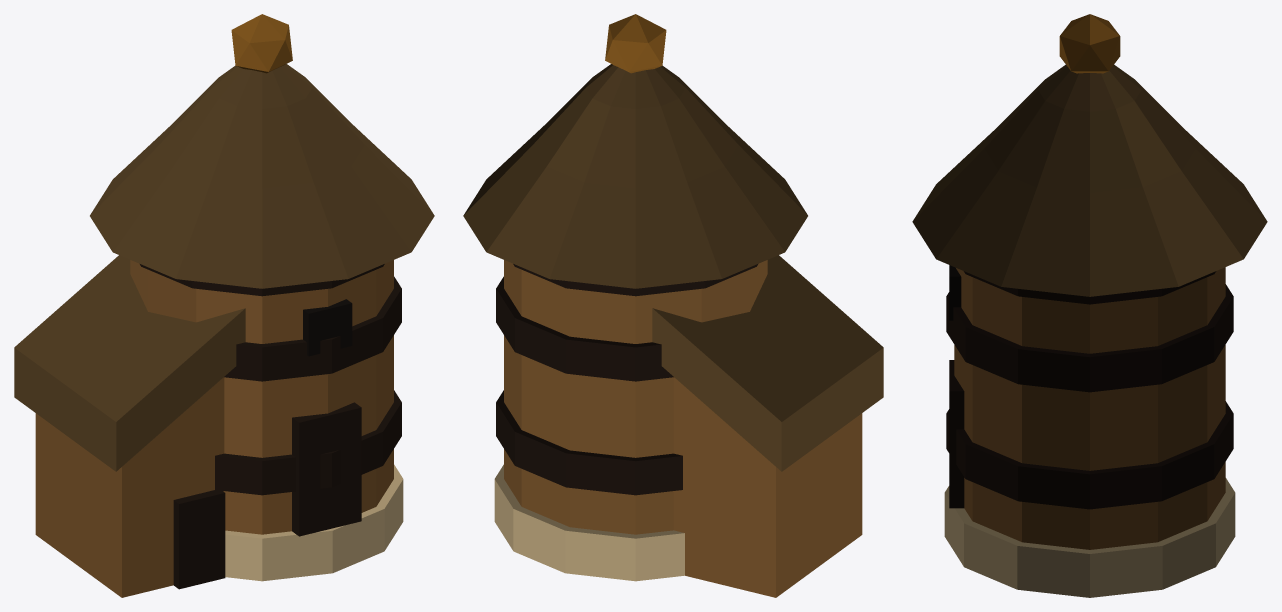
The model's file is granary.obj.
3 views of the same model, side by side, from view 1: azimuth 30°, elevation 25°; view 2: azimuth 150°, elevation 25°; view 3: azimuth 270°, elevation 25° (orthographic). The views are drawn at different scales.
Parts seen in each view (by area): view 1: core_thatch_store, core_plank, core_wood_dark, core_stone, core_gold, core_black; view 2: core_thatch_store, core_plank, core_wood_dark, core_stone, core_gold; view 3: core_thatch_store, core_plank, core_wood_dark, core_stone, core_gold, core_black.
Part boxes in pixels (left/top/right/bottom): core_thatch_store: left=14, top=64, right=434, bottom=471; core_plank: left=35, top=260, right=393, bottom=597; core_wood_dark: left=140, top=264, right=401, bottom=589; core_stone: left=225, top=464, right=403, bottom=581; core_gold: left=231, top=14, right=292, bottom=73; core_black: left=303, top=299, right=352, bottom=356; core_thatch_store: left=463, top=64, right=883, bottom=471; core_plank: left=504, top=260, right=862, bottom=597; core_wood_dark: left=496, top=264, right=757, bottom=495; core_stone: left=494, top=464, right=684, bottom=581; core_gold: left=605, top=14, right=666, bottom=73; core_thatch_store: left=912, top=64, right=1267, bottom=296; core_plank: left=954, top=267, right=1225, bottom=549; core_wood_dark: left=946, top=271, right=1233, bottom=509; core_stone: left=944, top=478, right=1235, bottom=597; core_gold: left=1059, top=14, right=1120, bottom=73; core_black: left=949, top=265, right=961, bottom=320.
Bounding box in the file's own units: 0.255 × 0.357 × 0.22.
